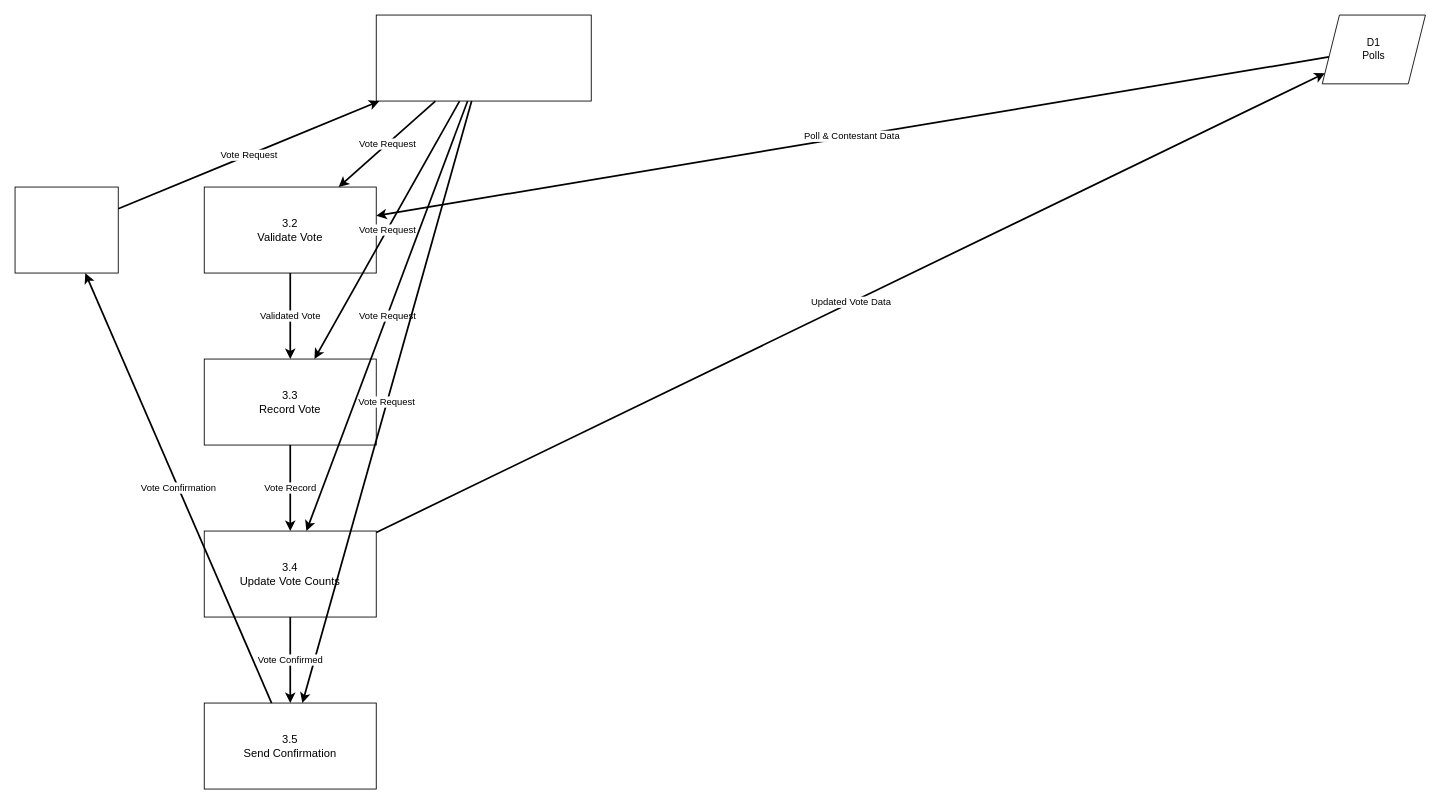
This 1441x804 diagram has some shape labels left out. The box of each missing label's shape, as (x1, y1, x2, y2) in pixels:
3.1 Receives Vote Request: (375, 14, 591, 101)
Voter: (14, 186, 118, 273)
